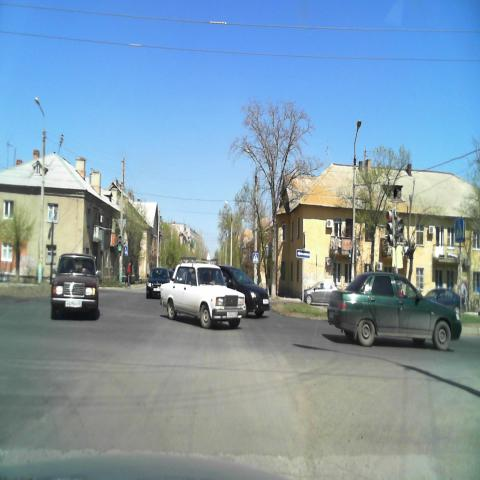5_7_2: (296, 249, 310, 258)
